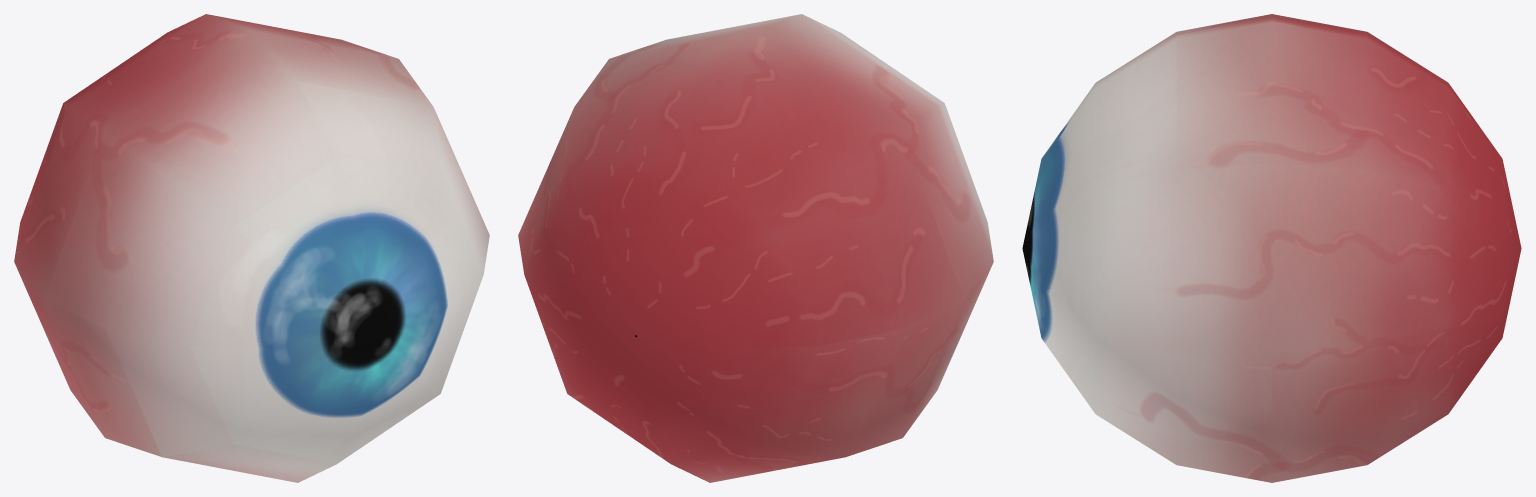
The model's file is Eye.glb.
The picture shows the model from 3 angles, left to right: view 1: azimuth 30°, elevation 25°; view 2: azimuth 150°, elevation 25°; view 3: azimuth 270°, elevation 25°; orthographic projection. The views are drawn at different scales.
Visible parts, largest first — view 1: Sphere.002; view 2: Sphere.002; view 3: Sphere.002.
Part boxes in pixels (box(x1,y1,x2,y2)): Sphere.002: box(14, 14, 489, 482); Sphere.002: box(518, 14, 993, 482); Sphere.002: box(1022, 14, 1521, 482).
Size of the model in its own units: 2 by 2 by 2.
Materials: 1 (1 with a texture image).
